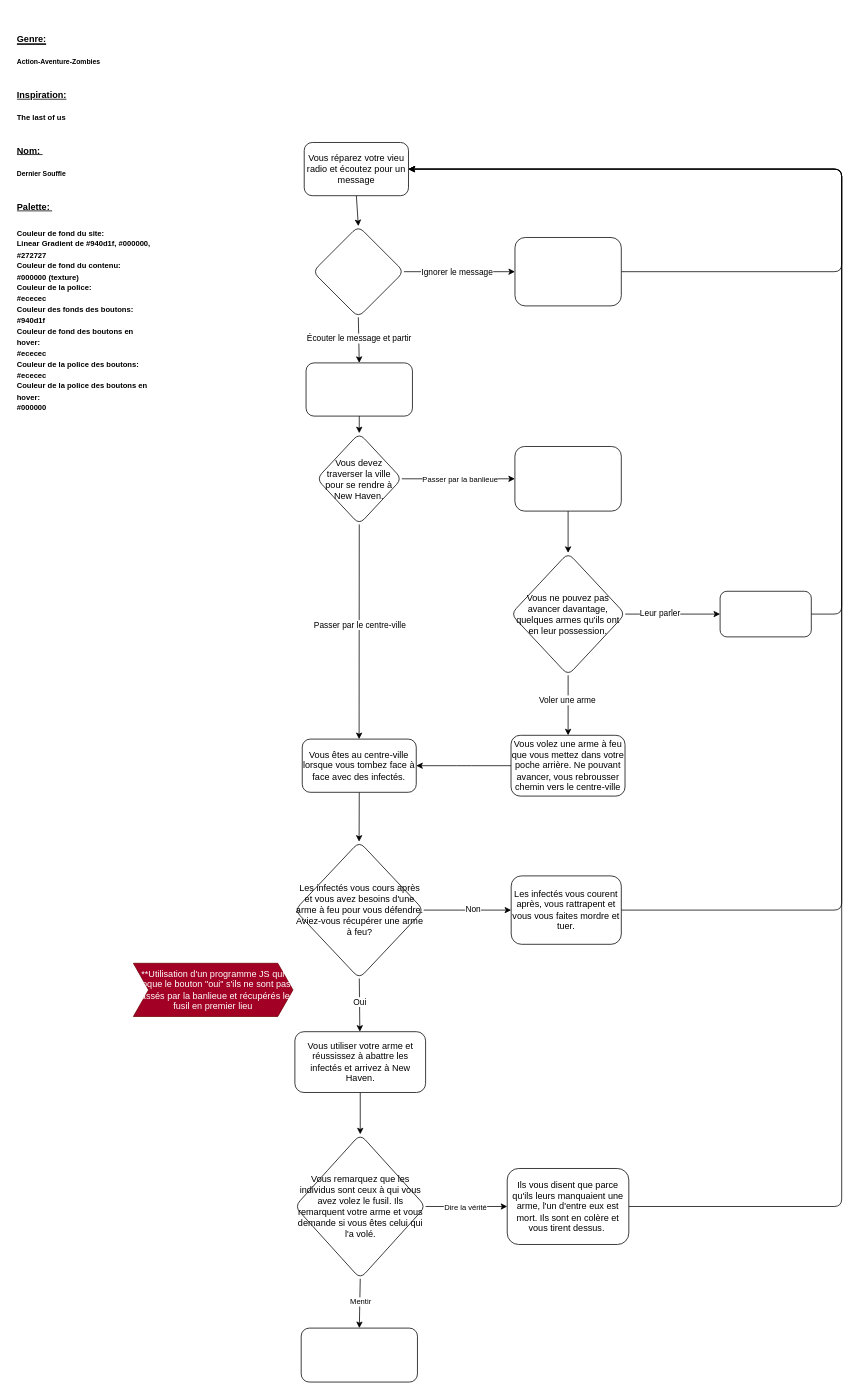
Image size: 861x1395. Some labels were removed from this diagram. Here are the shapes that lost their labels. From the top down, the centre of each, then its label:
[358,271]: Vous recevez un signal radio
[567,271]: Vous restez à votre campement et manquez de nourriture. Vous mourrez.
[358,389]: Vous débuter un voyage vers New Haven (campement de survivants).
[567,478]: Vous appercevez des survivants bloquant l'accès à la route.
[765,614]: Ces survivants ne sont pas amical. Ils vous tirent dessus
[358,1354]: Vous avez survécu le voyage. On vous laisse entrer à New Haven.
